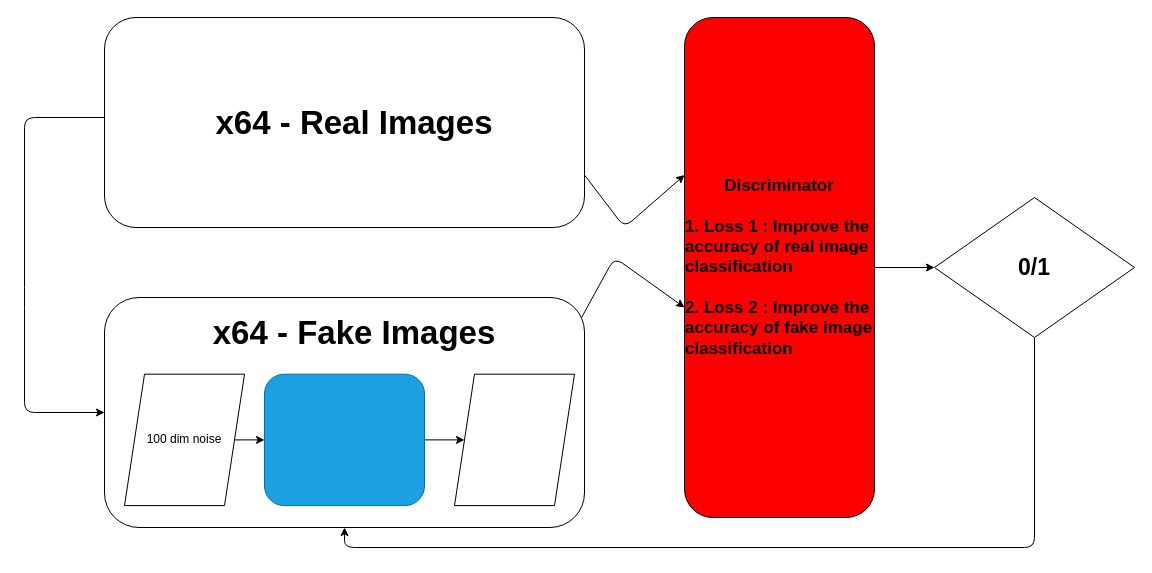
Some shapes in this 1152 by 573 pixel diagram are drawn without their labels. The box of each missing label's shape, as (x1, y1, x2, y2) in pixels:
Fake images 32 x 32 x 3: (454, 373, 574, 506)
Generator Loss 3 : Discriminator frozen to output 1: (264, 373, 424, 506)
